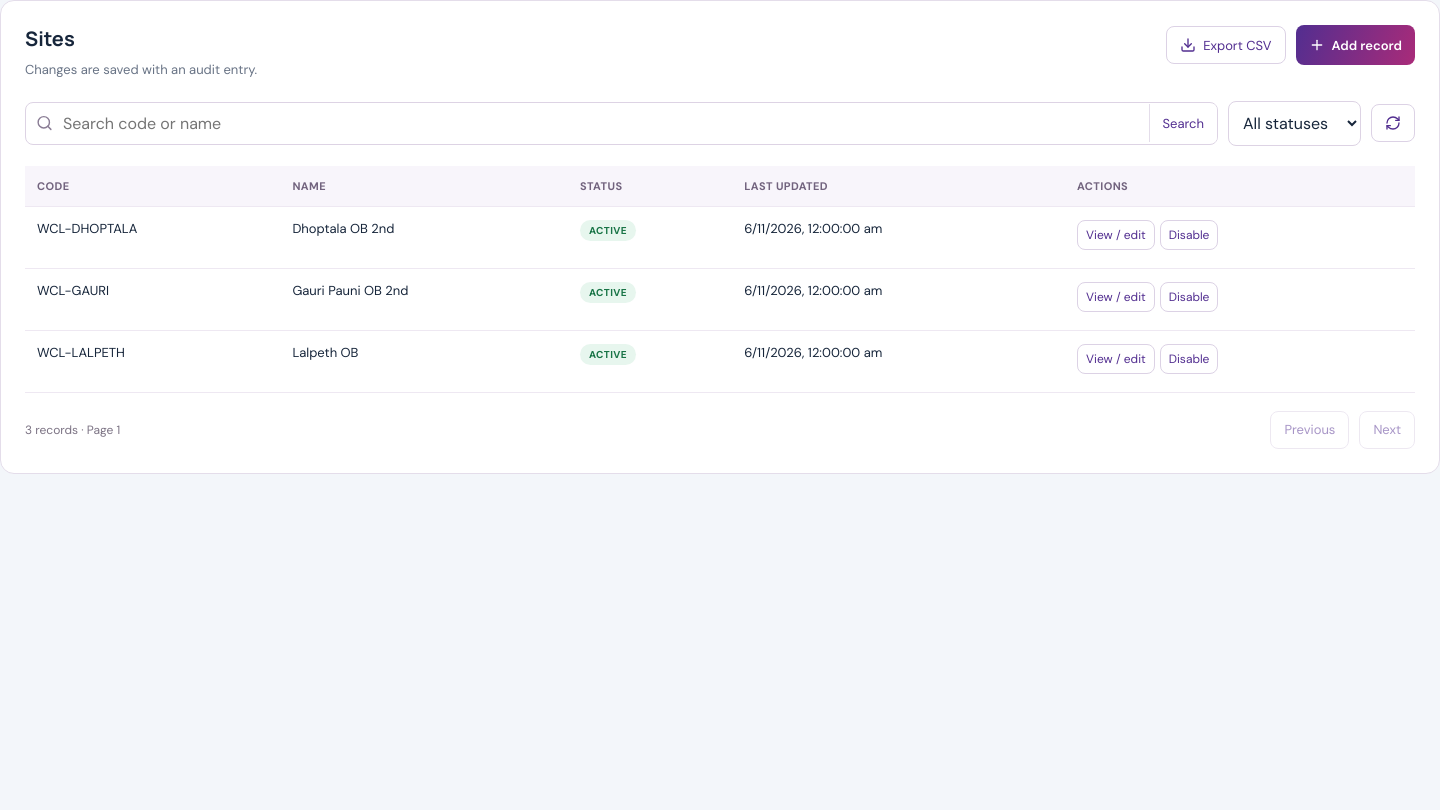
it: shows the new names in site master records and edit forms
Check: the text "Dhoptala OB 2nd" is shown, box [280,206,568,268]
Check: the text "Gauri Pauni OB 2nd" is shown, box [280,268,568,330]
Click the button "View / edit" in the row of "WCL-DHOPTALA".
click(1116, 235)  # box [1077,220,1155,250]
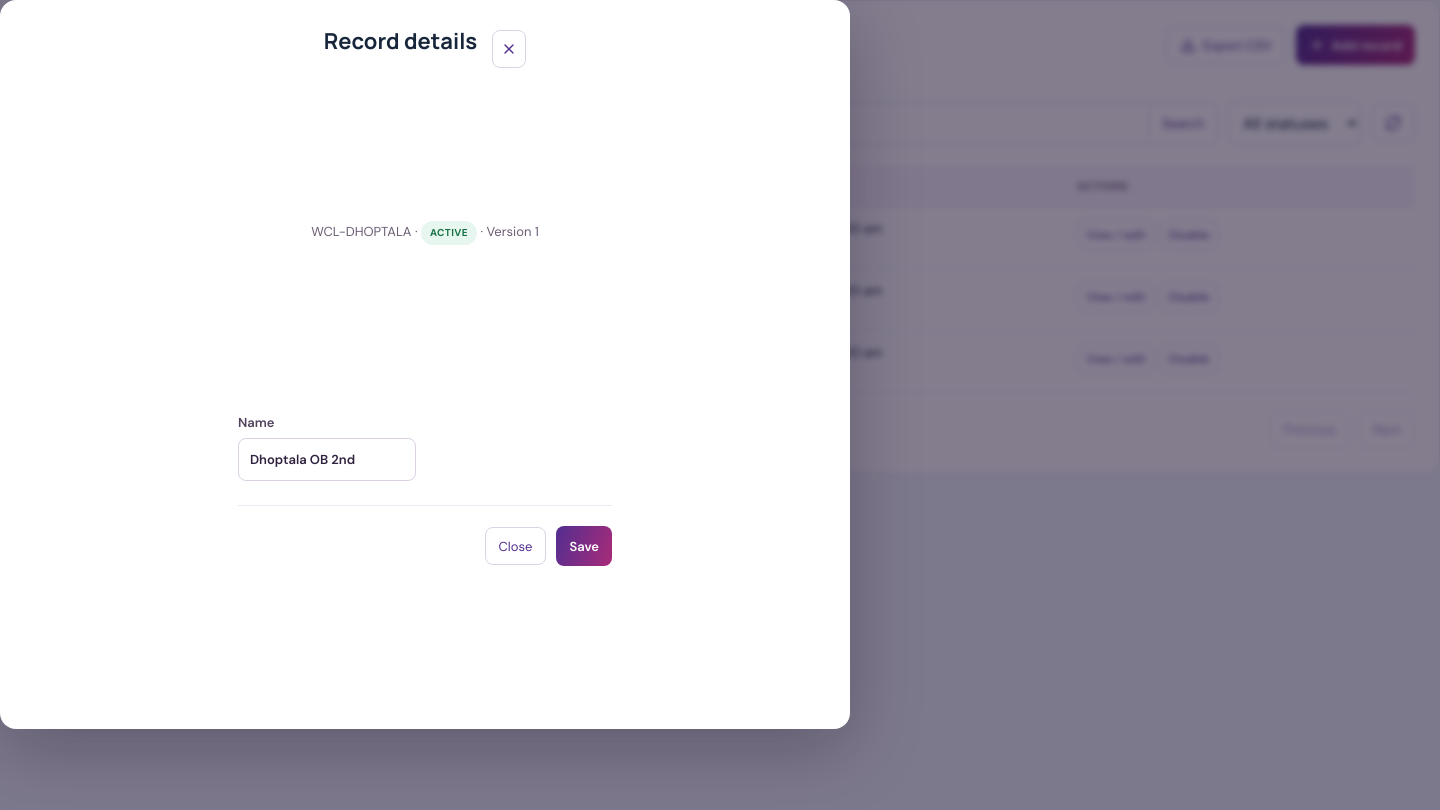
Check: the field labelled "Name" holds "Dhoptala OB 2nd", box [238,438,416,481]
